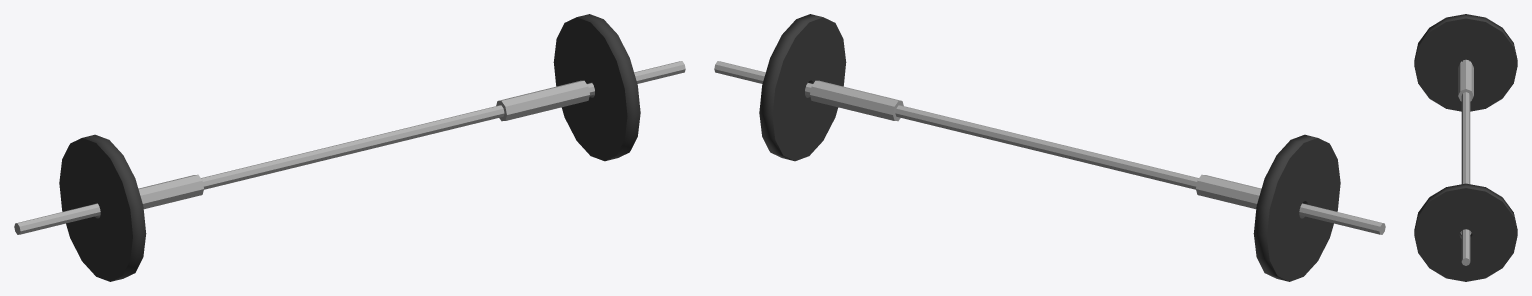
Rendered from CustomBarbell.fbx.
The picture shows the model from 3 angles, left to right: view 1: azimuth 30°, elevation 25°; view 2: azimuth 150°, elevation 25°; view 3: azimuth 270°, elevation 25°; orthographic projection. The views are drawn at different scales.
Visible parts, largest first — view 1: Barbell_1; view 2: Barbell_1; view 3: Barbell_1.
Part boxes in pixels (bbox=[...]): Barbell_1: bbox=[14, 14, 685, 281]; Barbell_1: bbox=[714, 14, 1385, 281]; Barbell_1: bbox=[1414, 14, 1517, 281].
Size of the model in its own units: 188 by 36.16 by 36.16.
